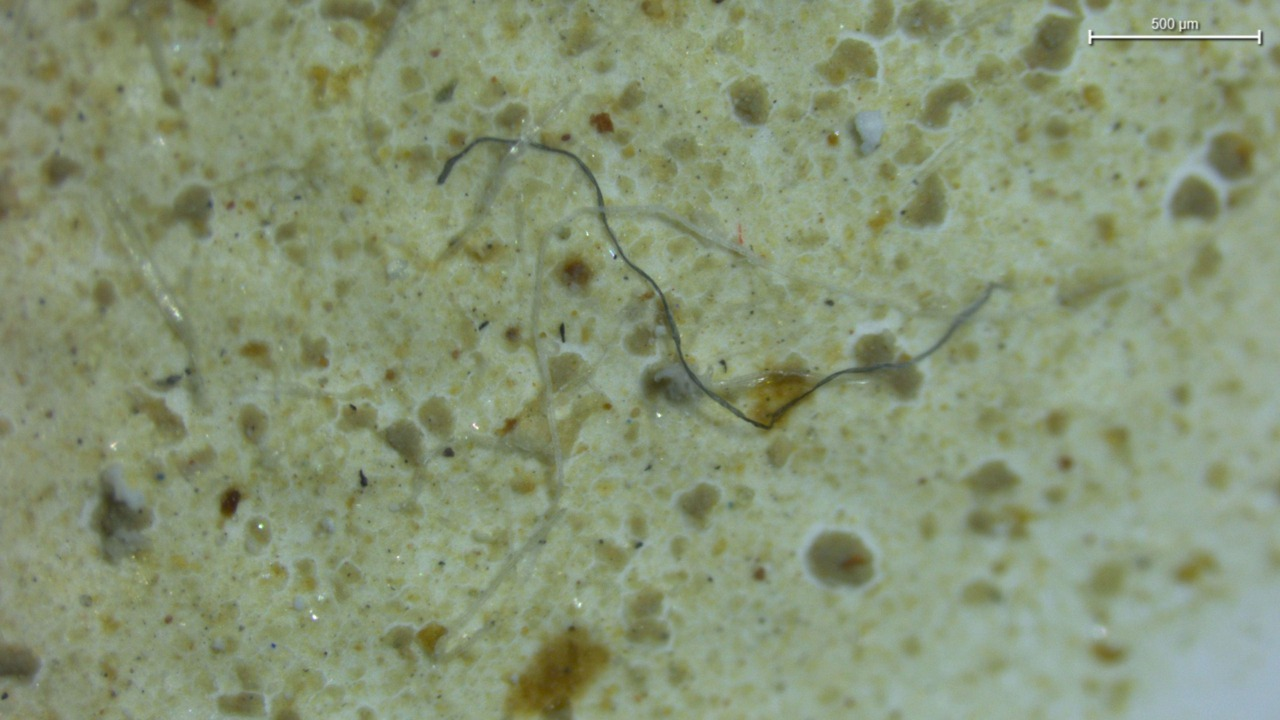microplastic_fragment: (855, 110, 884, 155)
